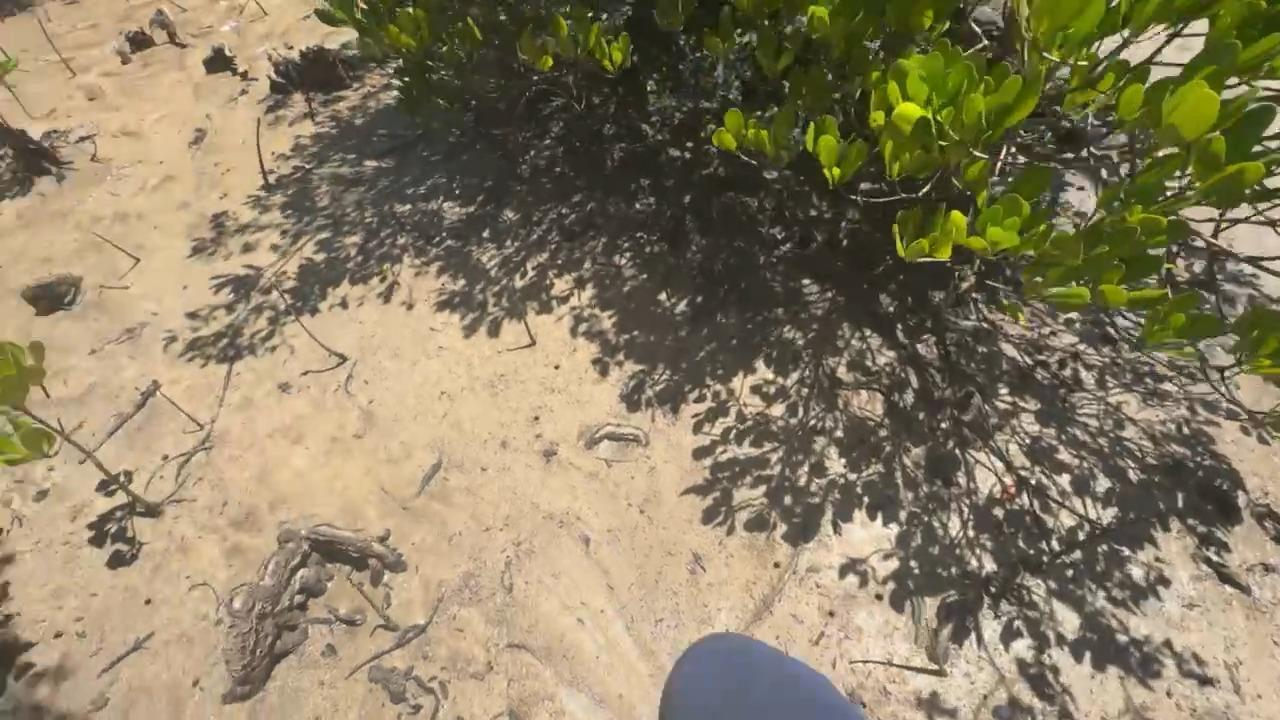Tree: (25, 411, 162, 517), (269, 281, 349, 361), (38, 19, 76, 76), (357, 586, 400, 632), (159, 391, 204, 430), (849, 660, 948, 677), (92, 231, 140, 262), (0, 75, 33, 118), (515, 296, 537, 345), (257, 118, 270, 190), (170, 1, 188, 12), (255, 0, 267, 16), (0, 47, 11, 61)
